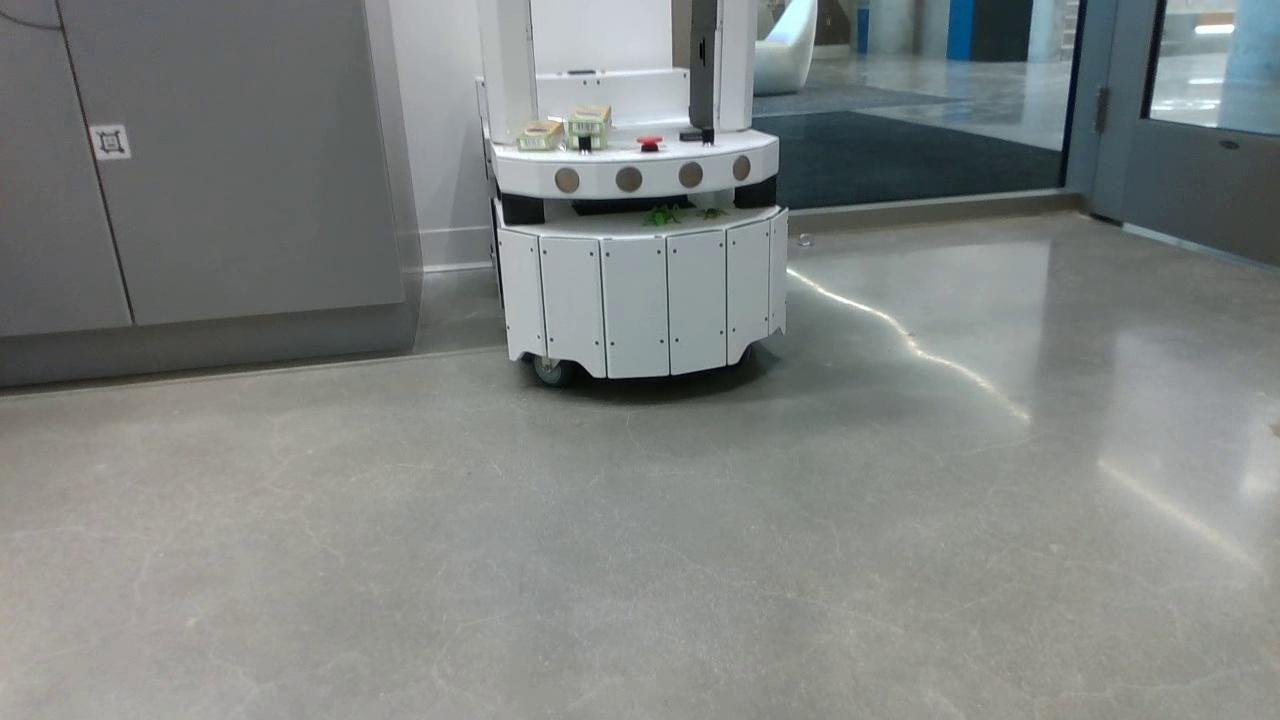grasshopper: (639, 204, 685, 223)
